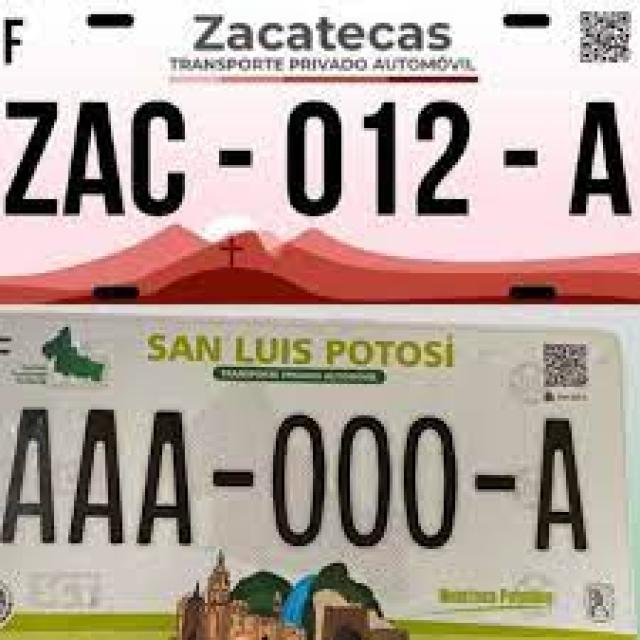placa: (0, 395, 626, 568), (0, 80, 640, 234)
